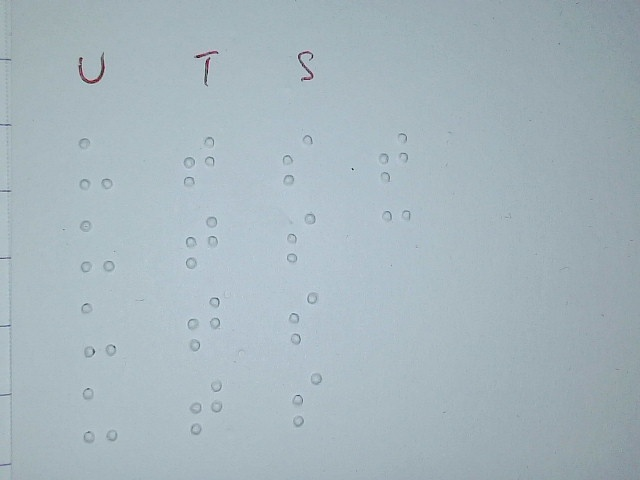S: (290, 370, 323, 426), (281, 132, 315, 186), (285, 210, 317, 263), (288, 291, 320, 344)
T: (186, 295, 221, 352), (188, 378, 223, 435), (182, 134, 216, 188), (185, 214, 219, 268)
U: (82, 385, 119, 442), (78, 135, 114, 191), (80, 218, 116, 274), (81, 301, 117, 357)
